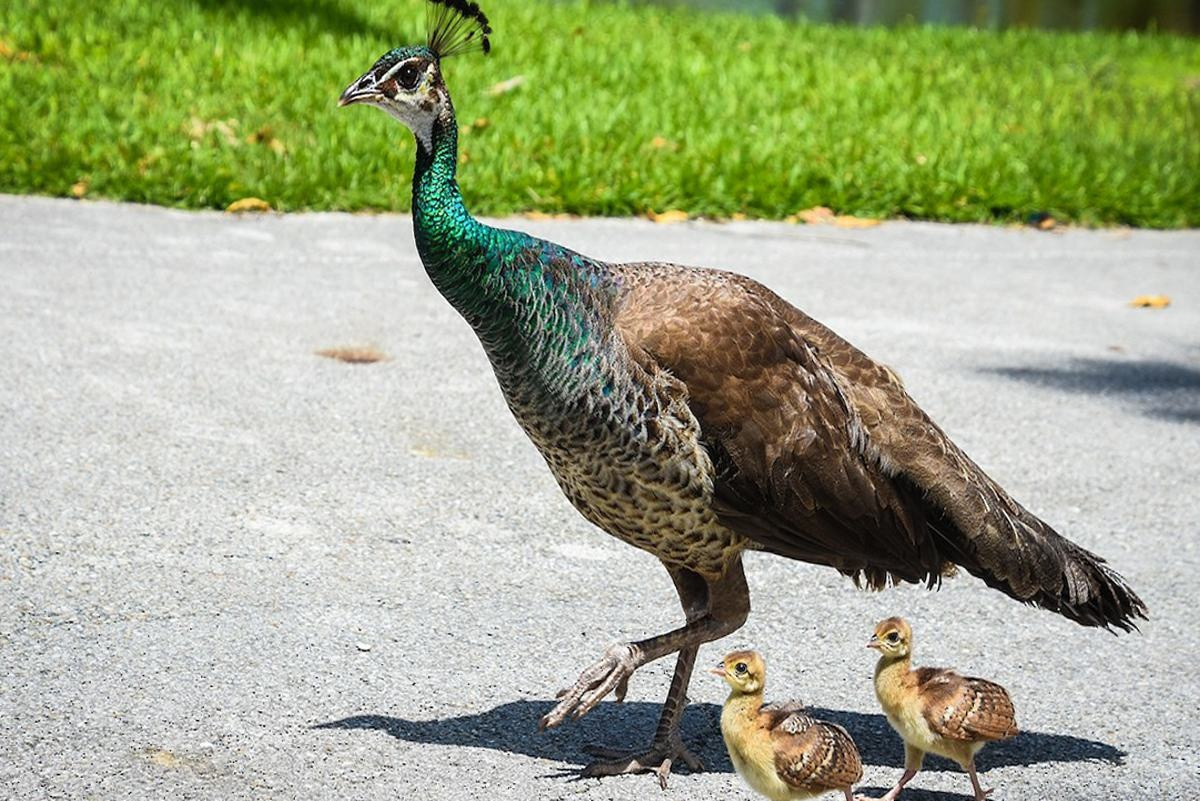peacock: (343, 16, 1098, 660)
